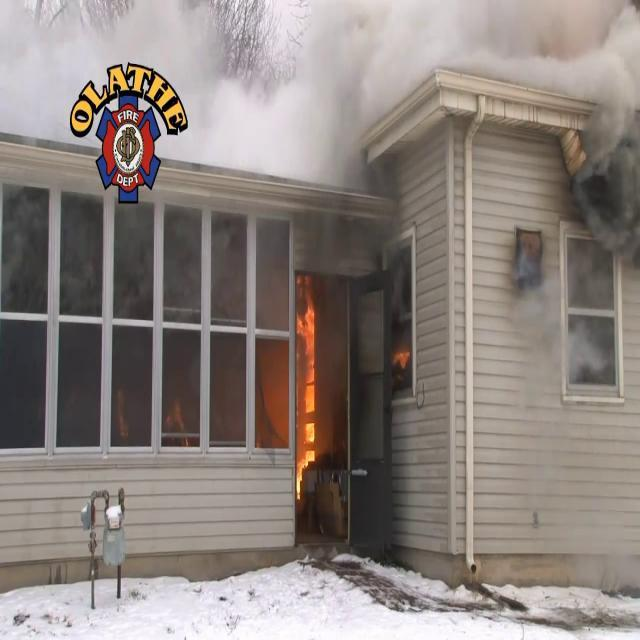Fire: (292, 285, 322, 488)
Smoke: (182, 0, 416, 226), (519, 0, 640, 381)
